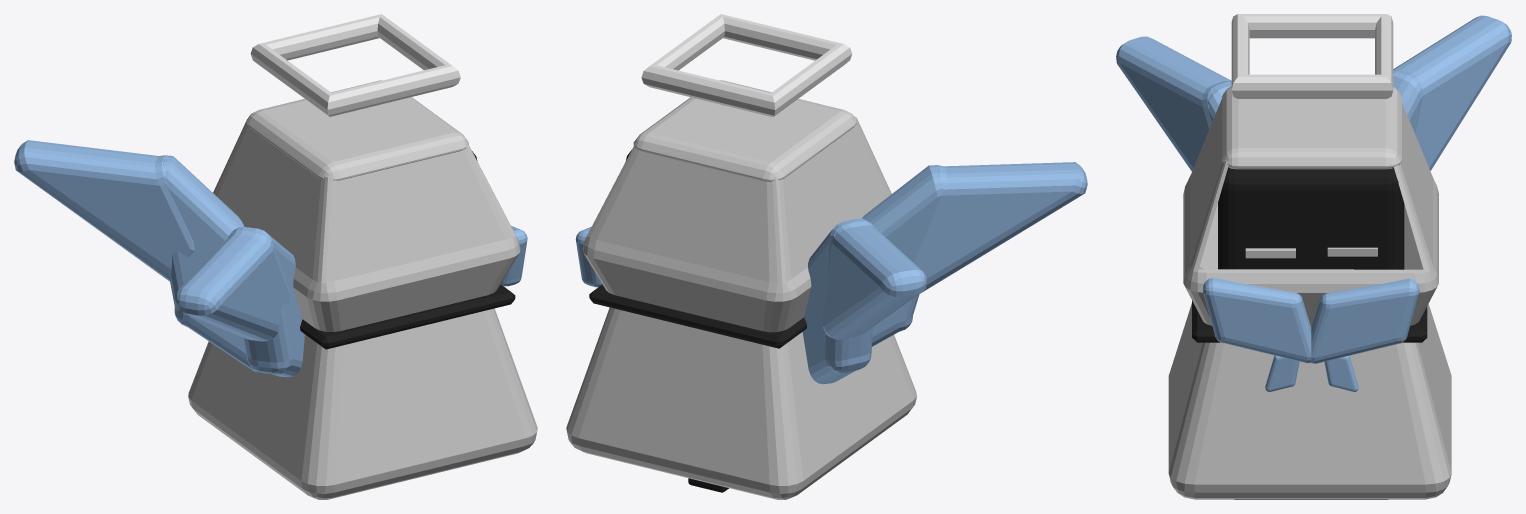
3 views of the same model, side by side, from view 1: azimuth 30°, elevation 25°; view 2: azimuth 150°, elevation 25°; view 3: azimuth 270°, elevation 25° (orthographic). The views are drawn at different scales.
Visible parts, largest first — view 1: Cube.091, Cube.097, Cube.098, Torus.001, Cube.099, Cube.102; view 2: Cube.091, Cube.098, Cube.097, Torus.001, Cube.099, Cube.102; view 3: Cube.091, glova.001, Cube.102, Torus.001, Cube.097, Cube.098, Cube.099, Cube.101, Cube.100.
Part boxes in pixels (x1=…): Cube.091: x1=188, y1=80, x2=537, y2=499; Cube.097: x1=14, y1=140, x2=259, y2=372; Cube.098: x1=174, y1=227, x2=304, y2=377; Torus.001: x1=250, y1=14, x2=460, y2=116; Cube.099: x1=300, y1=284, x2=515, y2=349; Cube.102: x1=501, y1=226, x2=527, y2=286; Cube.091: x1=566, y1=80, x2=916, y2=499; Cube.098: x1=862, y1=162, x2=1087, y2=346; Cube.097: x1=802, y1=218, x2=926, y2=384; Torus.001: x1=641, y1=14, x2=852, y2=117; Cube.099: x1=589, y1=284, x2=806, y2=348; Cube.102: x1=575, y1=226, x2=602, y2=287; Cube.091: x1=1168, y1=86, x2=1451, y2=499; glova.001: x1=1218, y1=168, x2=1404, y2=269; Cube.102: x1=1203, y1=277, x2=1419, y2=392; Torus.001: x1=1231, y1=14, x2=1393, y2=98; Cube.097: x1=1393, y1=15, x2=1511, y2=170; Cube.098: x1=1116, y1=36, x2=1231, y2=171; Cube.099: x1=1192, y1=300, x2=1427, y2=342; Cube.101: x1=1245, y1=248, x2=1295, y2=258; Cube.100: x1=1327, y1=247, x2=1377, y2=256.
Size of the model in its own units: 203 by 209 by 173.
